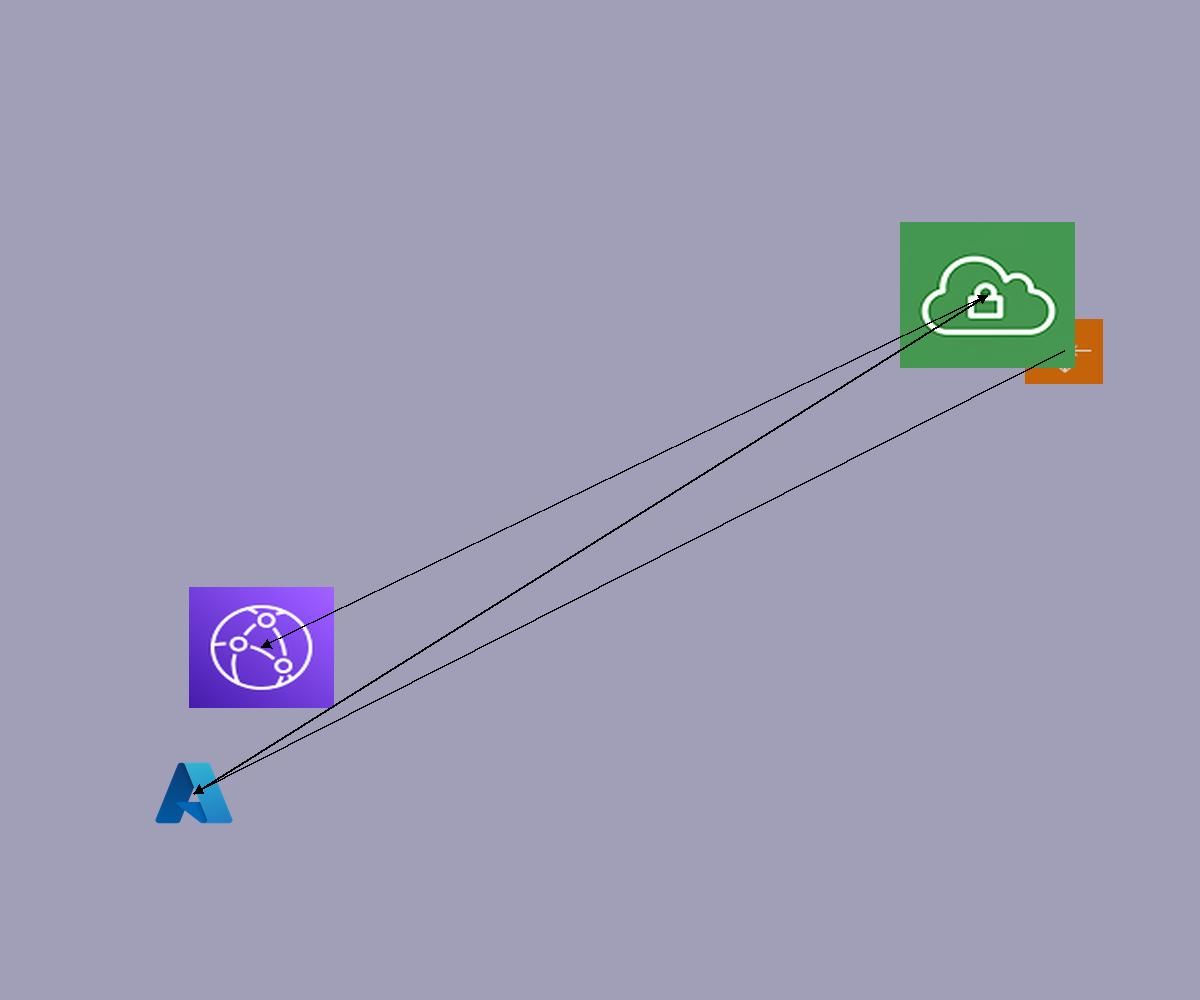AWS-CloudFront: (189, 587, 334, 708)
AWS-Private_vpc: (900, 222, 1075, 368)
AWS-Scaling-group: (1025, 319, 1103, 384)
Azure_services: (152, 758, 236, 828)
